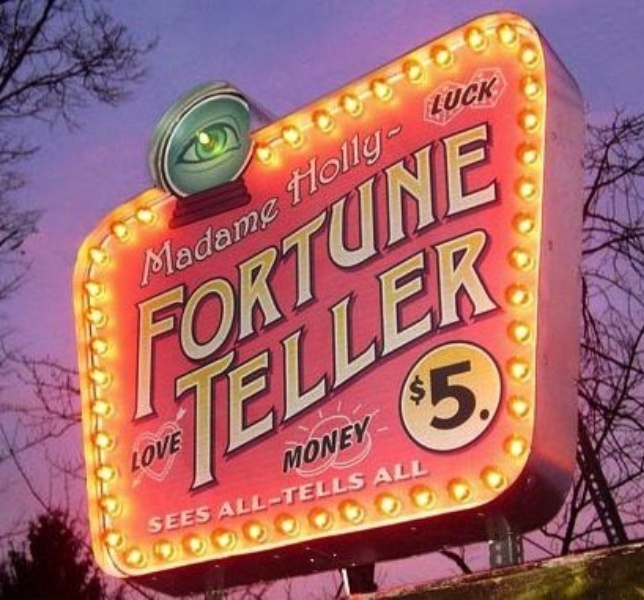text: (145, 111, 160, 427), (161, 111, 176, 427), (177, 111, 192, 427), (193, 111, 208, 427), (209, 111, 224, 427), (225, 111, 240, 427), (241, 111, 256, 427), (257, 111, 272, 427), (273, 111, 288, 427), (289, 111, 304, 427), (305, 111, 320, 427), (321, 111, 336, 427), (337, 111, 352, 427), (353, 111, 368, 427), (369, 111, 384, 427), (385, 111, 400, 427), (401, 111, 416, 427), (417, 111, 432, 427), (433, 111, 448, 427), (449, 111, 464, 427), (465, 111, 480, 427), (481, 111, 496, 427), (177, 216, 192, 498), (193, 216, 208, 498), (209, 216, 224, 498), (225, 216, 240, 498), (241, 216, 256, 498), (257, 216, 272, 498), (273, 216, 288, 498), (289, 216, 304, 498), (305, 216, 320, 498), (321, 216, 336, 498), (337, 216, 352, 498), (353, 216, 368, 498), (369, 216, 384, 498), (385, 216, 400, 498), (401, 216, 416, 498), (417, 216, 432, 498), (433, 216, 448, 498), (449, 216, 464, 498), (465, 216, 480, 498), (481, 216, 496, 498), (134, 111, 144, 427), (497, 111, 506, 427), (497, 216, 506, 498), (145, 193, 160, 292), (161, 193, 176, 292), (177, 193, 192, 292), (193, 193, 208, 292), (209, 193, 224, 292), (225, 193, 240, 292), (241, 193, 256, 292), (257, 193, 272, 292), (171, 216, 176, 498), (289, 122, 304, 212), (305, 122, 320, 212), (321, 122, 336, 212), (337, 122, 352, 212), (353, 122, 368, 212), (369, 122, 384, 212), (417, 355, 432, 440), (433, 355, 448, 440), (449, 355, 464, 440), (465, 355, 480, 440), (273, 193, 284, 292), (289, 412, 304, 476), (305, 412, 320, 476), (321, 412, 336, 476), (337, 412, 352, 476), (353, 412, 368, 476), (405, 355, 416, 440), (481, 355, 492, 440), (225, 470, 240, 520), (241, 470, 256, 520), (257, 470, 272, 520), (273, 470, 288, 520), (289, 470, 304, 520), (305, 470, 320, 520), (321, 470, 336, 520), (337, 470, 352, 520), (145, 426, 160, 475), (161, 426, 176, 475), (353, 470, 367, 520), (131, 426, 144, 475), (449, 75, 464, 117), (465, 75, 480, 117), (481, 75, 496, 117), (434, 75, 448, 117), (161, 501, 176, 534), (177, 501, 192, 534), (193, 501, 208, 534), (385, 456, 400, 489), (401, 456, 416, 489), (281, 412, 288, 476), (147, 501, 160, 534), (372, 456, 384, 489), (417, 456, 429, 489), (177, 426, 185, 475), (369, 412, 374, 476), (218, 470, 224, 520), (209, 501, 213, 534), (385, 122, 386, 212), (497, 75, 498, 117)
